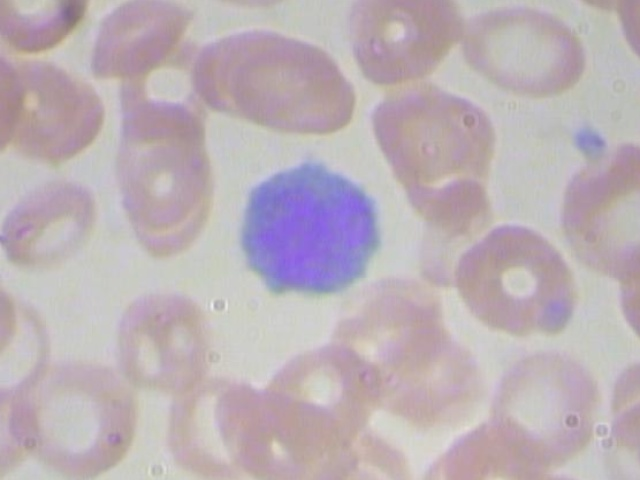Platelets: (563, 118, 616, 162)
RBC: (2, 351, 144, 480), (449, 218, 578, 342), (363, 78, 501, 193), (476, 344, 599, 469), (246, 334, 377, 451), (455, 0, 598, 107), (229, 32, 354, 142), (557, 140, 640, 288), (109, 282, 223, 388), (0, 166, 102, 275), (198, 30, 315, 125), (340, 0, 464, 87), (81, 0, 198, 81), (612, 0, 640, 81)
WBC: (229, 146, 399, 304)
